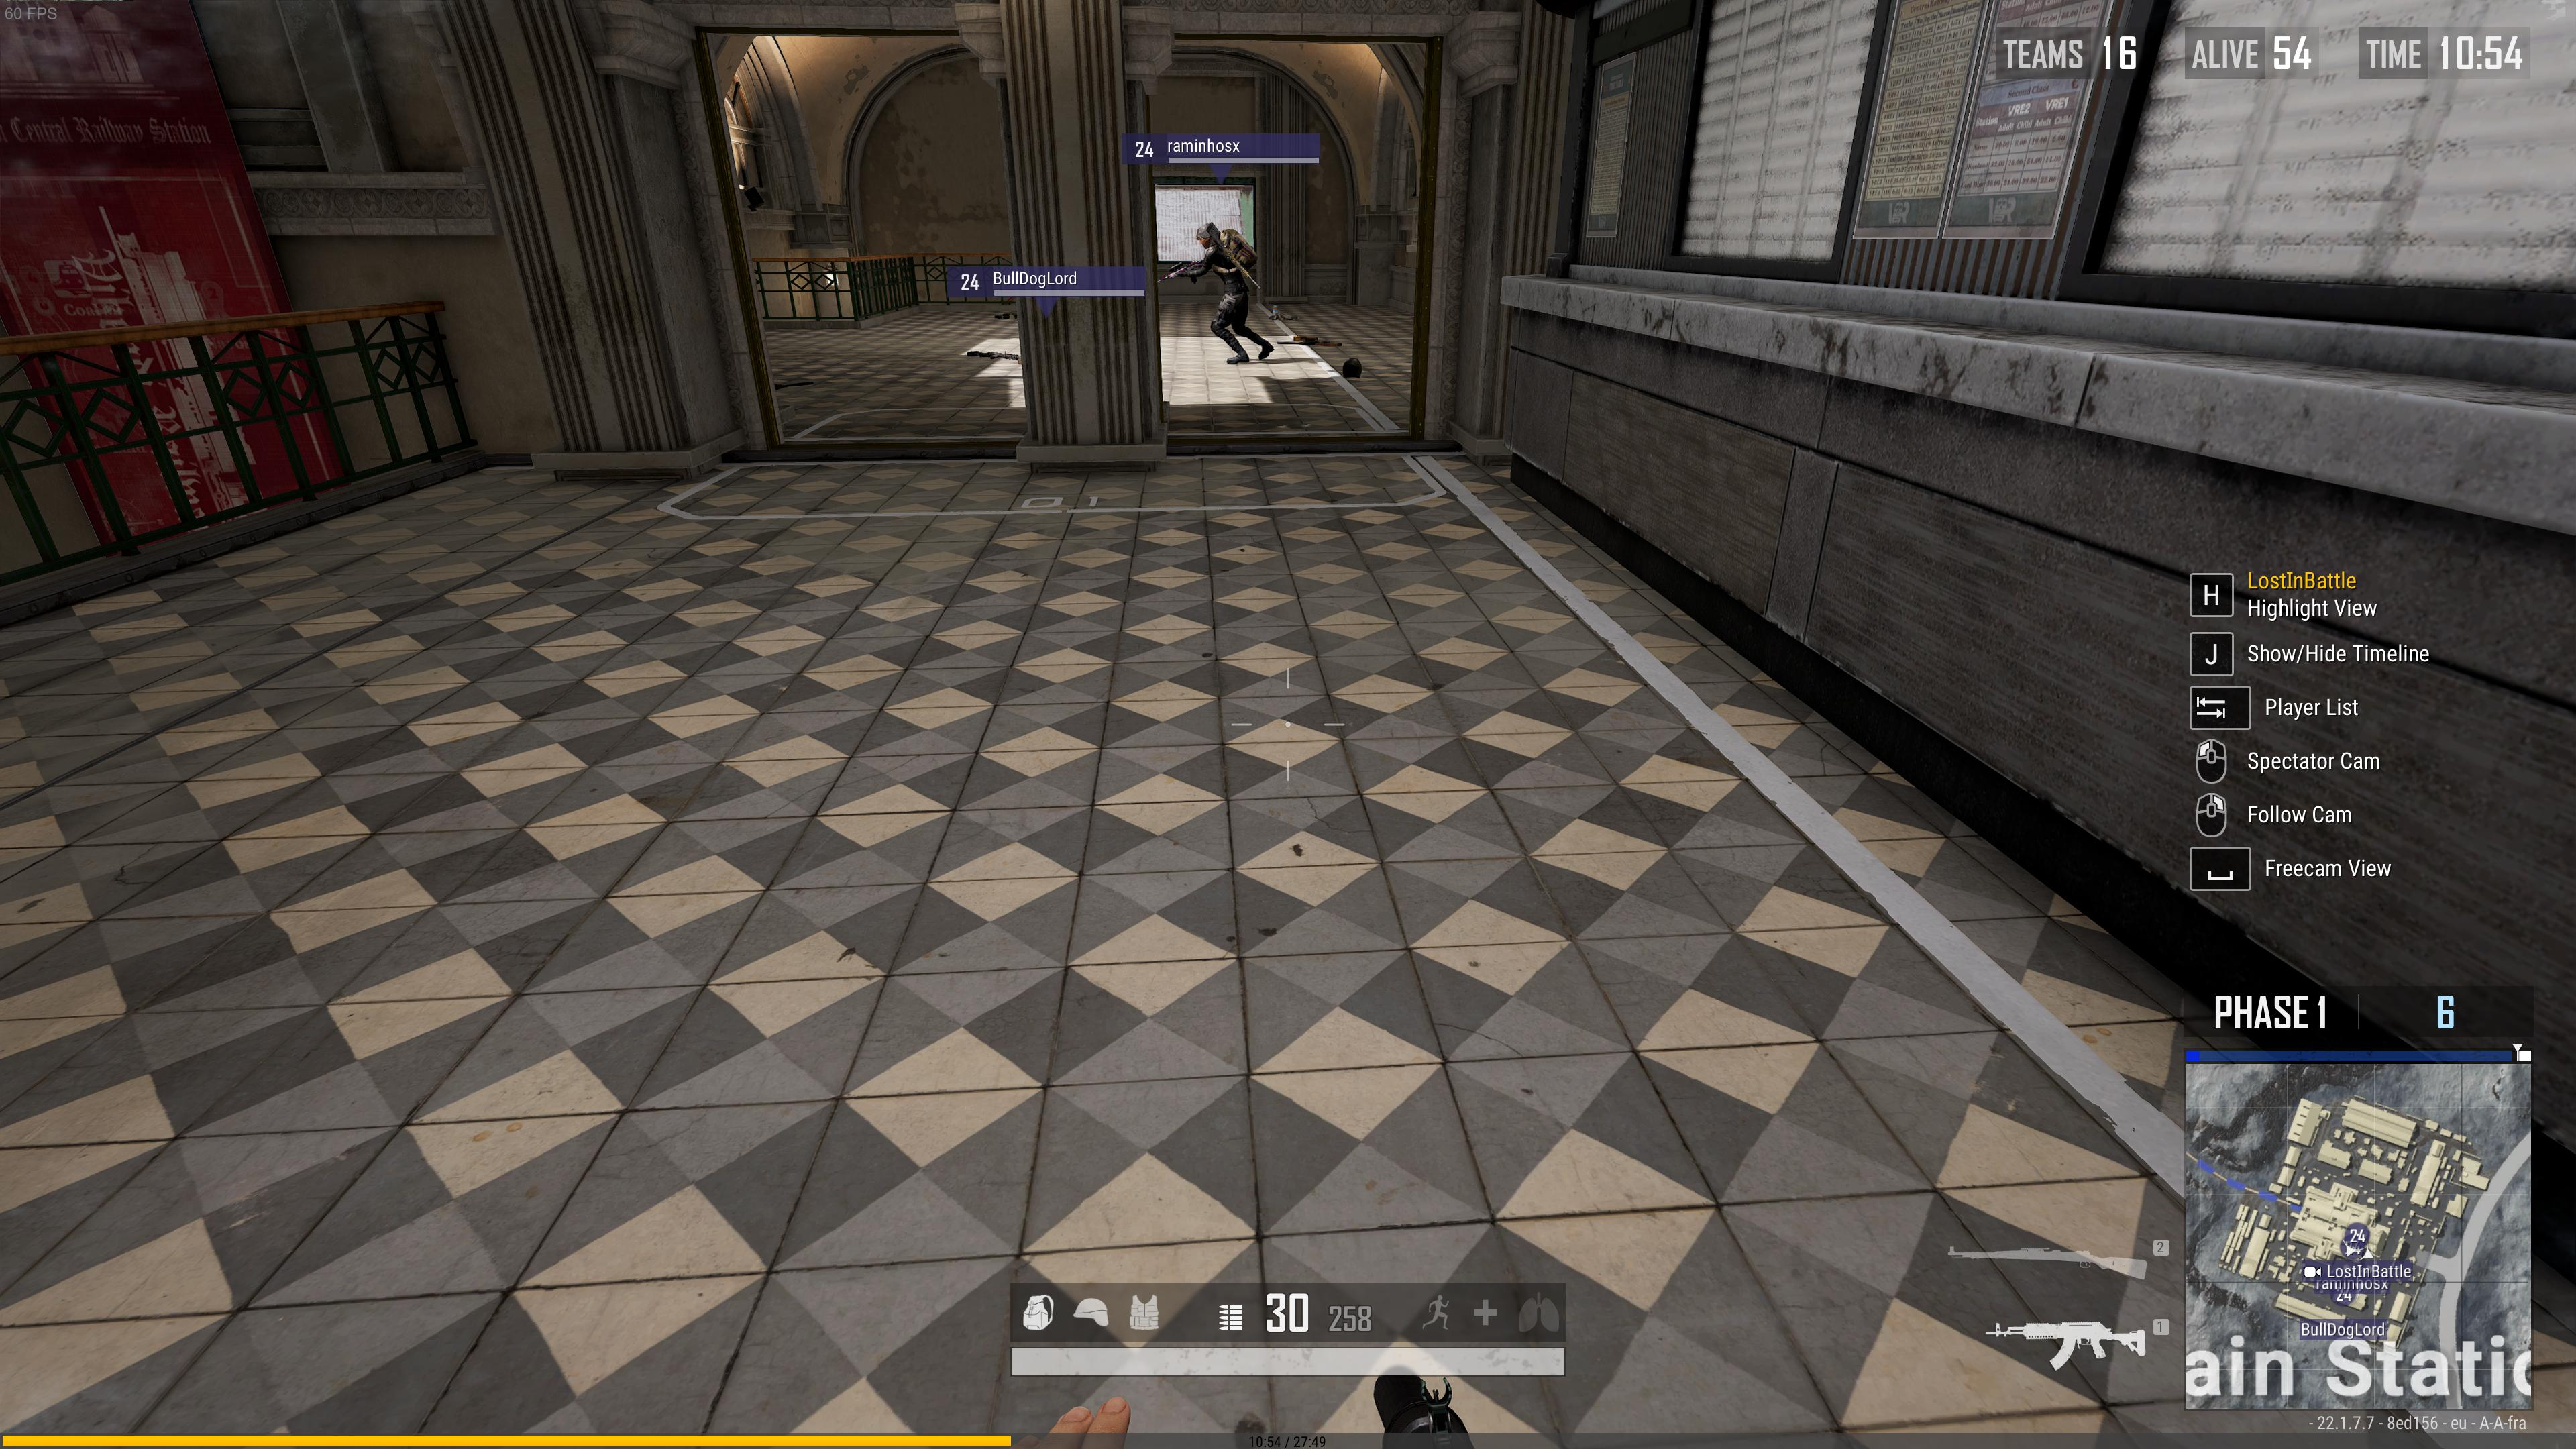enemy: (1162, 219, 1274, 364)
enemy_head: (1196, 221, 1219, 248)
